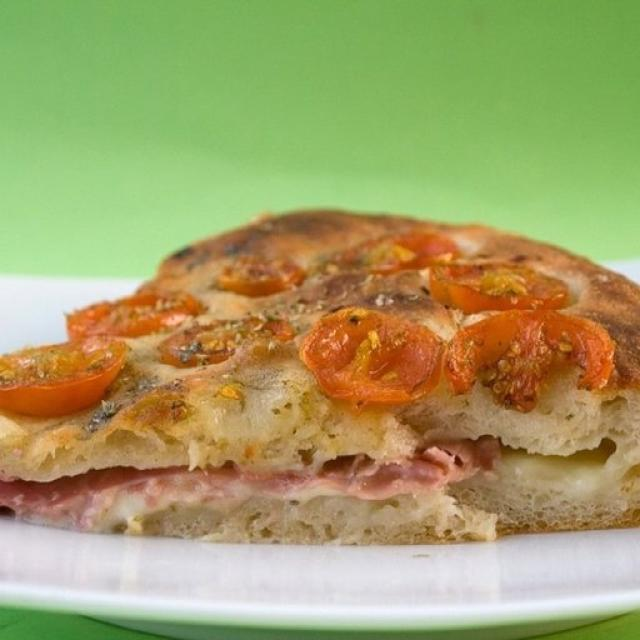Pizza: (0, 208, 640, 479)
Tomato: (451, 316, 614, 407), (307, 311, 441, 405), (0, 341, 124, 415), (62, 280, 206, 336), (161, 316, 291, 368), (434, 264, 566, 314), (333, 232, 462, 262), (218, 260, 307, 294)
